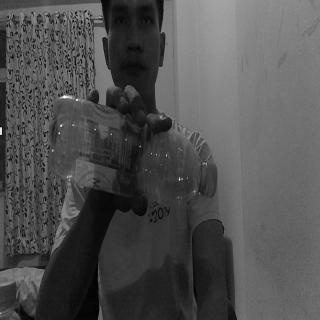plastic_bottles: (48, 98, 216, 202)
